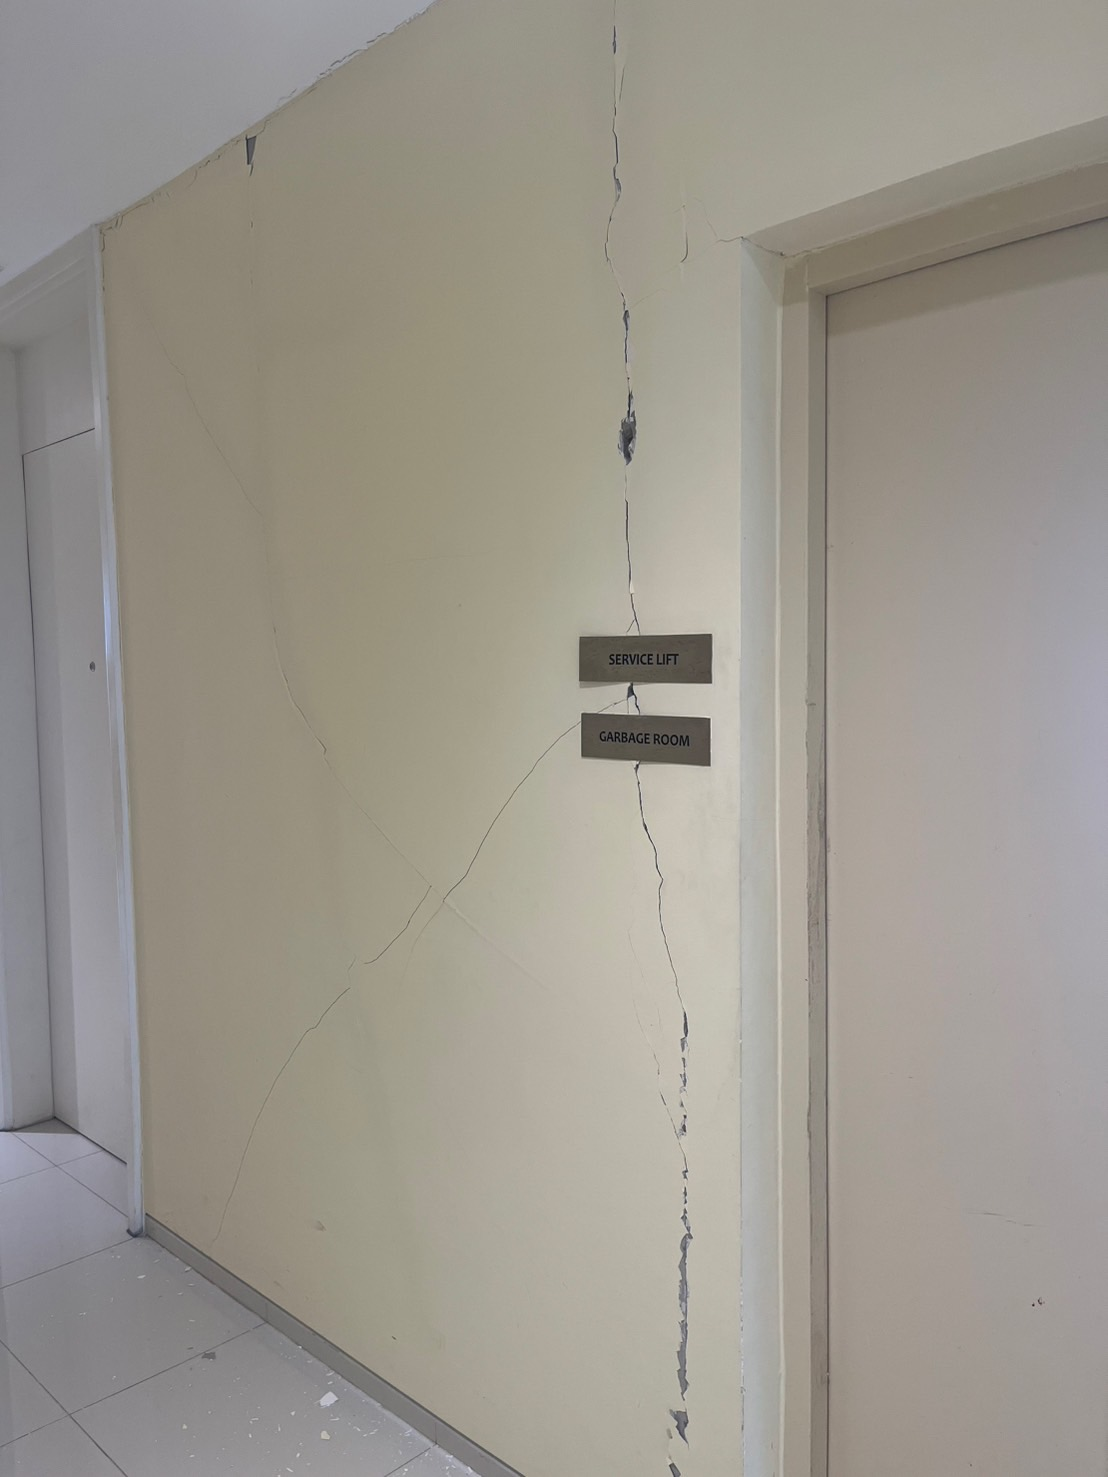Medium: (512, 59, 715, 611)
